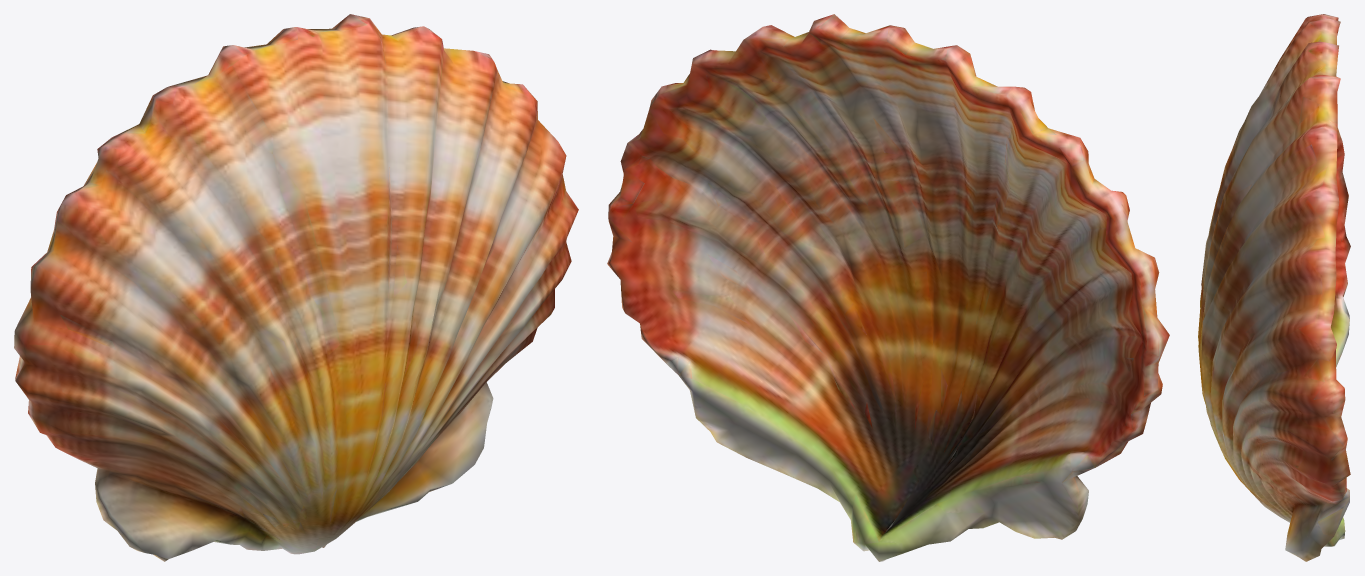
3 renders of one model, left to right at view 1: azimuth 30°, elevation 25°; view 2: azimuth 150°, elevation 25°; view 3: azimuth 270°, elevation 25°, orthographic. The views are drawn at different scales.
Parts seen in each view (by area): view 1: Mesh1.0; view 2: Mesh1.0; view 3: Mesh1.0.
Boxes of the visible parts, bbox=[...] form: Mesh1.0: bbox=[14, 14, 578, 561]; Mesh1.0: bbox=[607, 14, 1169, 561]; Mesh1.0: bbox=[1198, 14, 1350, 561].
Bounding box in the file's own units: 1.91 × 1.75 × 0.4857.
1 material, 1 textured.
